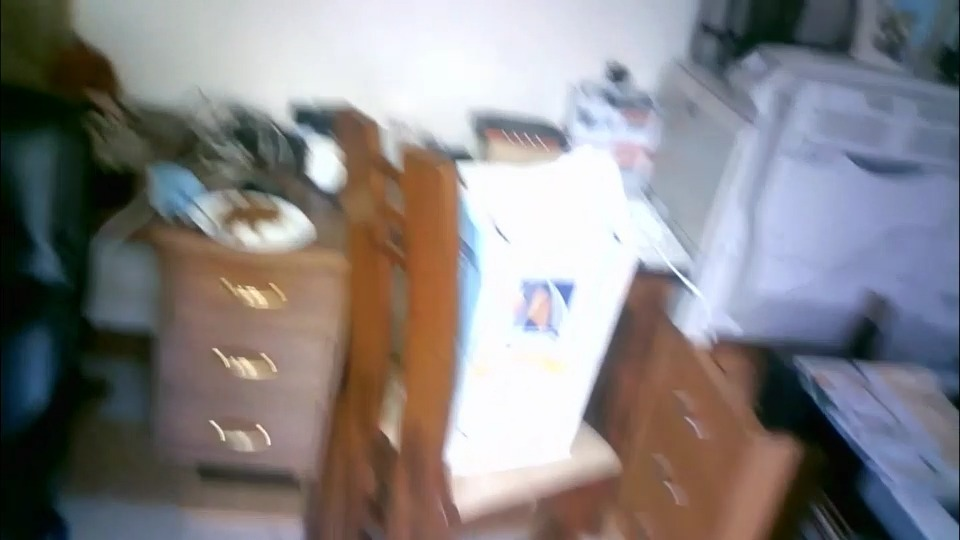wheat_flour_blue_label: (460, 153, 638, 489)
